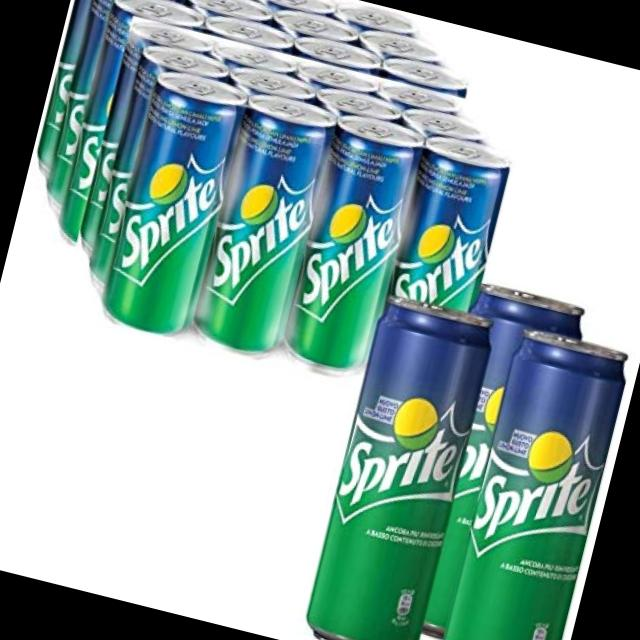sprite: (290, 295, 489, 640), (395, 280, 582, 640), (432, 323, 632, 640), (92, 72, 246, 346), (83, 40, 232, 312), (55, 4, 206, 271), (67, 16, 213, 284), (372, 128, 521, 382), (280, 118, 422, 383), (185, 88, 328, 350), (43, 0, 177, 215), (28, 0, 167, 201)
